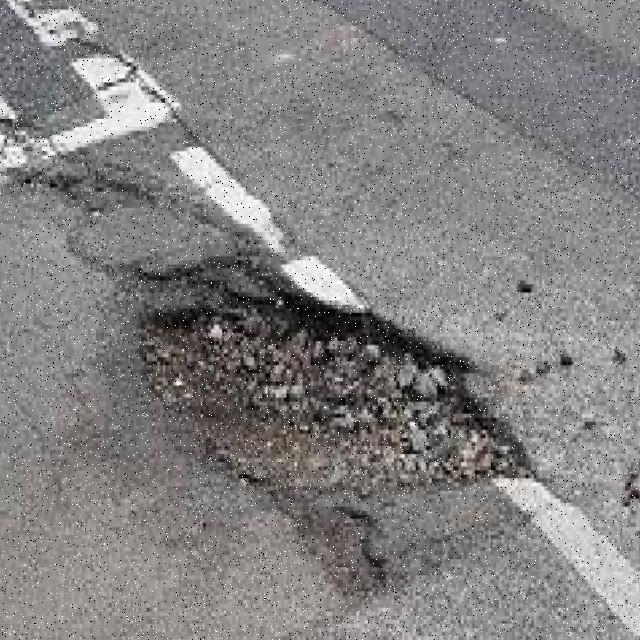pothole: (101, 256, 536, 491), (0, 163, 149, 212)
